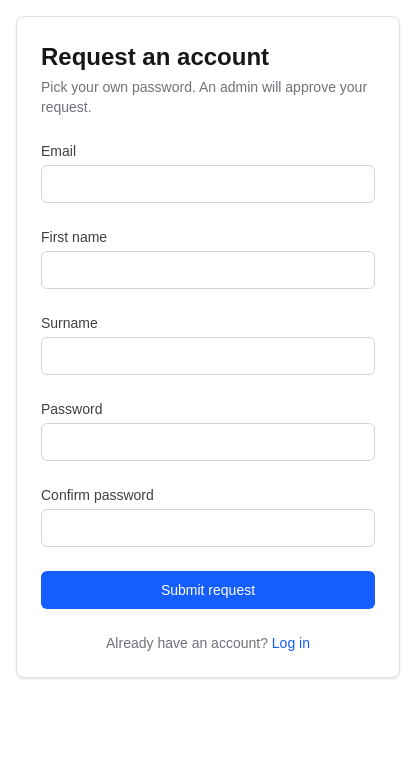
Test: DoctorRegisterPage › blocks submission and shows an error when passwords differ
Type "new@x.com" into the field labelled "Email" at (208, 184), box [41, 165, 375, 203]
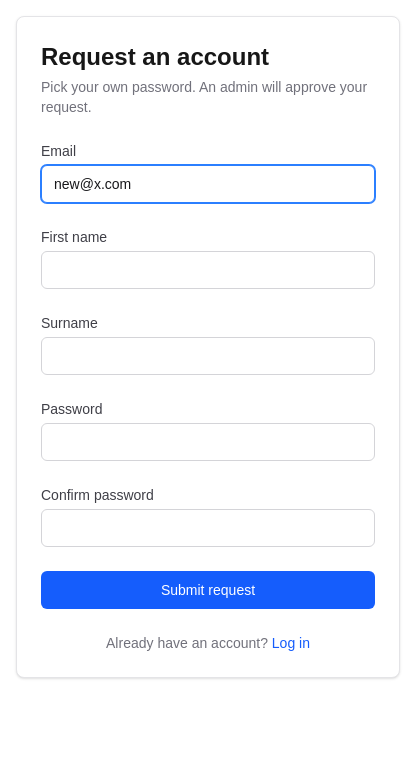
Type "New" into the field labelled "First name" at (208, 270), box [41, 251, 375, 289]
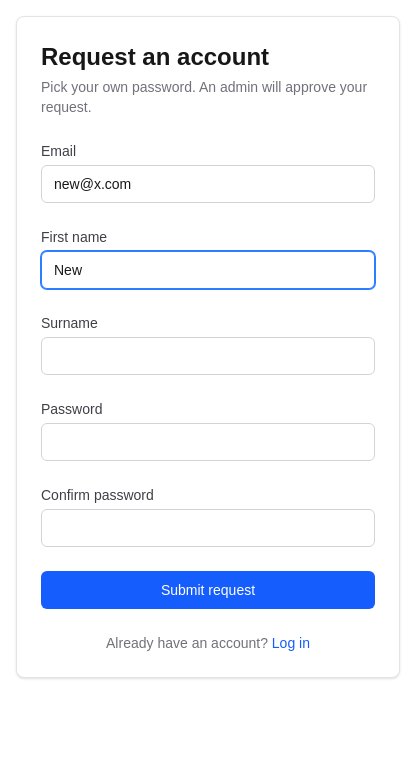
Type "Doc" into the field labelled "Surname" at (208, 356), box [41, 337, 375, 375]
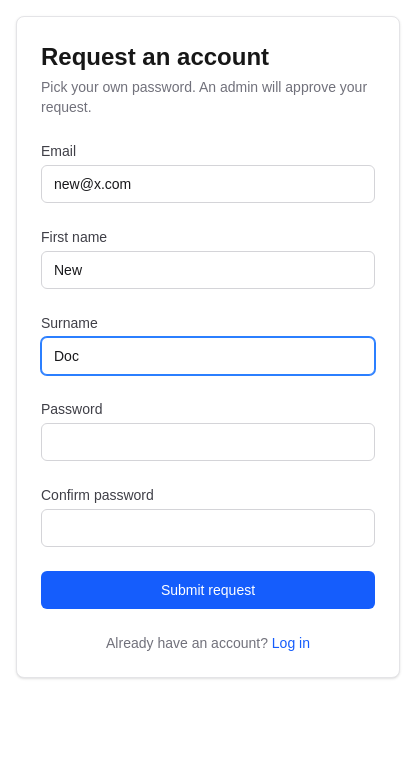
Type "secret1" into the password field labelled "Password" at (208, 442), box [41, 423, 375, 461]
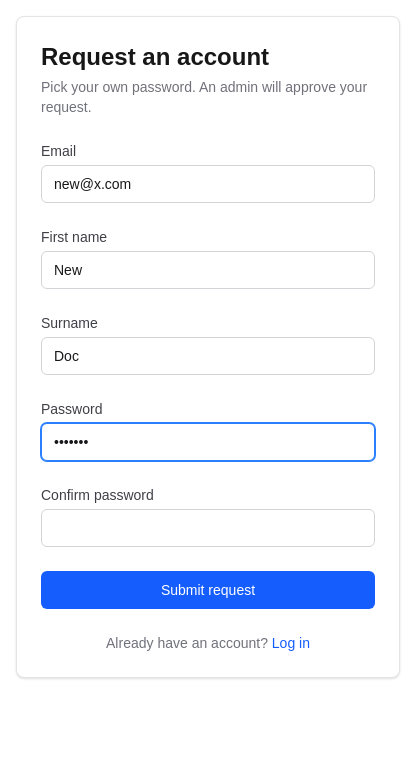
Type "different" into the password field labelled "Confirm password" at (208, 528), box [41, 509, 375, 547]
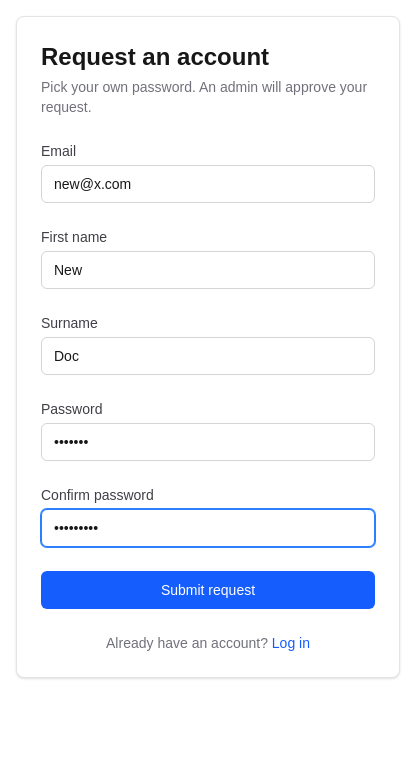
Click the button "Submit request" at (208, 590), box [41, 571, 375, 609]
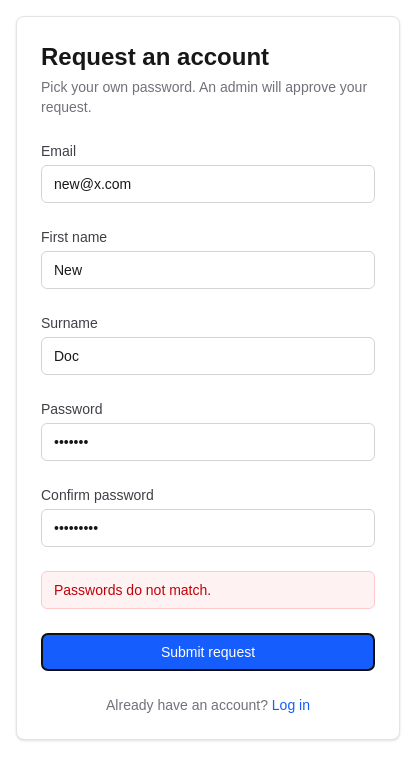
Expected: the text "Passwords do not match." is shown, [41, 571, 375, 609]
